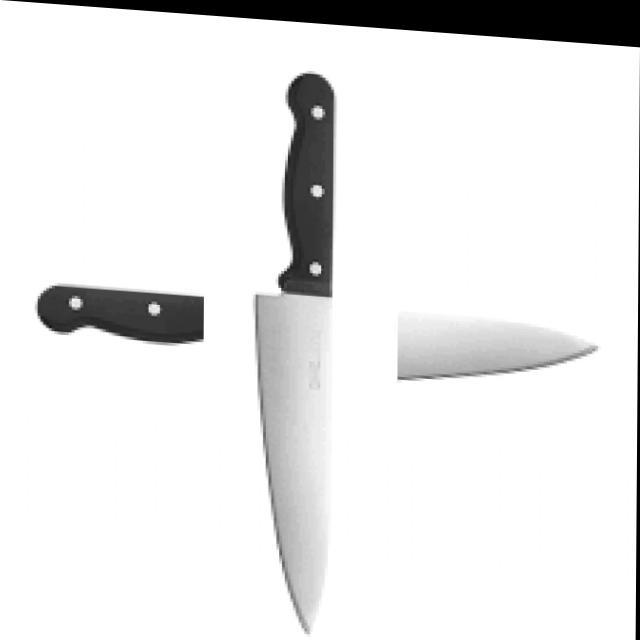knife: (34, 279, 601, 387), (252, 69, 338, 634)
